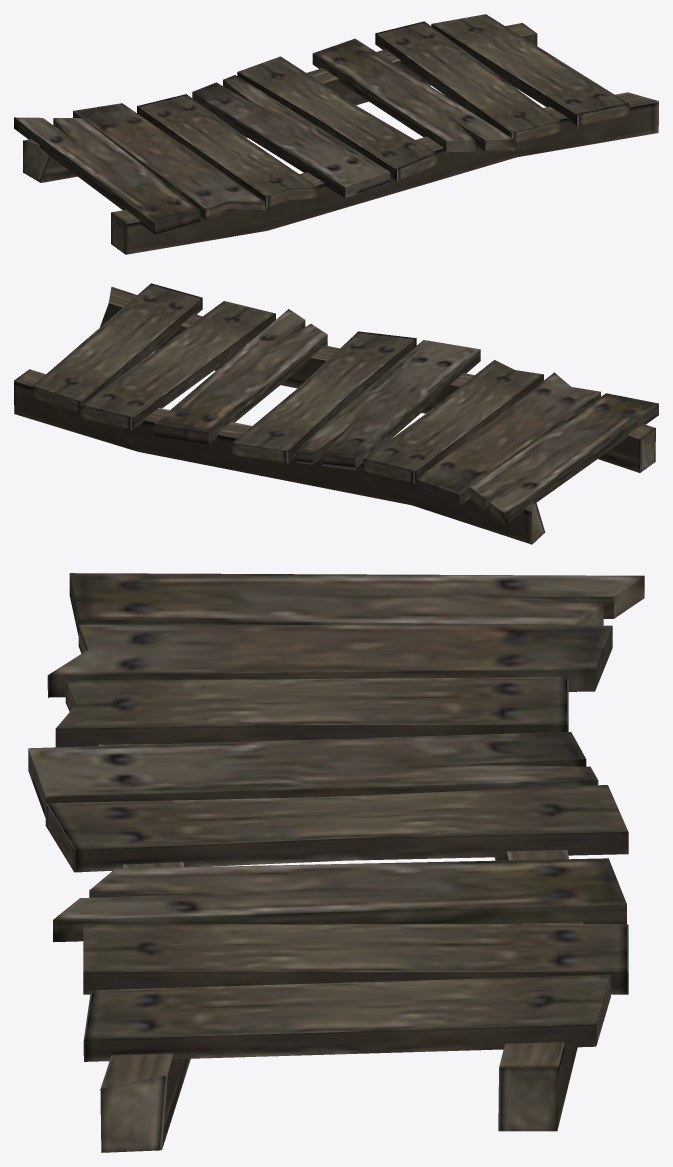
Rendered from DN_lv2_hcwdroad01.FBX.
3 views of the same model, one above another, from view 1: azimuth 30°, elevation 25°; view 2: azimuth 150°, elevation 25°; view 3: azimuth 270°, elevation 25° (orthographic). The views are drawn at different scales.
Visible parts, largest first — view 1: DN_lv2_hcwdroad01; view 2: DN_lv2_hcwdroad01; view 3: DN_lv2_hcwdroad01.
Part boxes in pixels (<box>): DN_lv2_hcwdroad01: <box>14,14,658,254</box>; DN_lv2_hcwdroad01: <box>14,283,658,544</box>; DN_lv2_hcwdroad01: <box>28,573,644,1152</box>.
Bounding box in the file's own units: 393 × 28.75 × 200.
